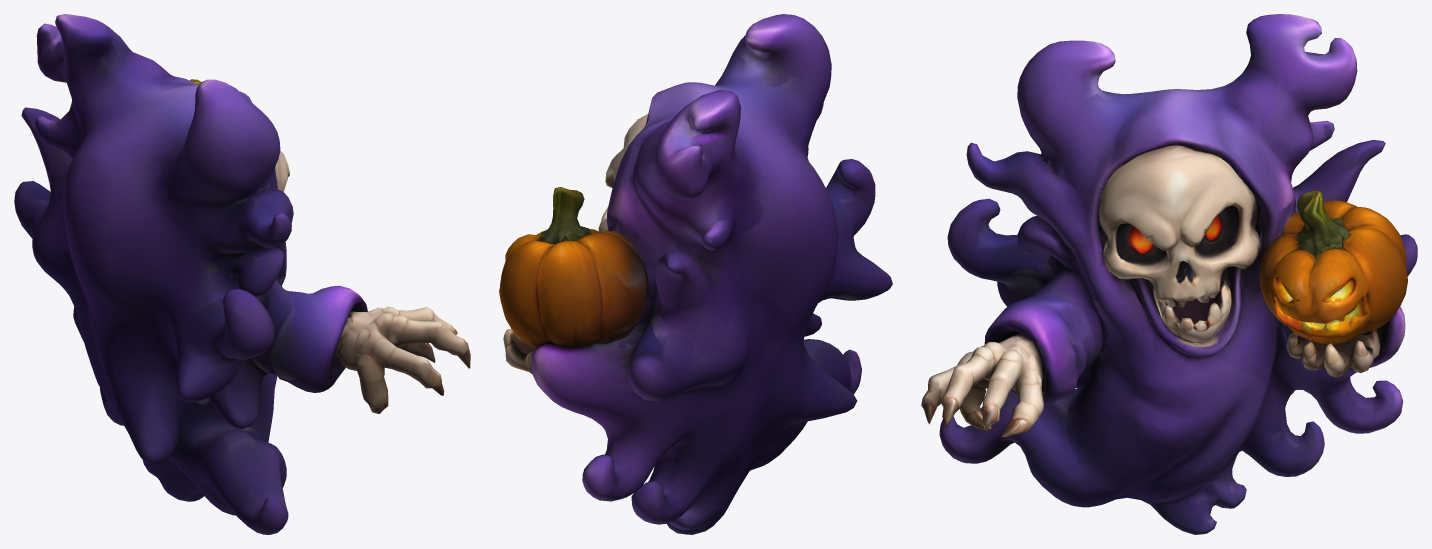
The model's file is 093-chibi-pet-tripo-v25-standard-15k.glb.
3 renders of one model, left to right at view 1: azimuth 30°, elevation 25°; view 2: azimuth 150°, elevation 25°; view 3: azimuth 270°, elevation 25°, orthographic. The views are drawn at different scales.
Visible parts, largest first — view 1: tripo_node_856713ae-0552-439f-aa1c-4e71f79b0d92; view 2: tripo_node_856713ae-0552-439f-aa1c-4e71f79b0d92; view 3: tripo_node_856713ae-0552-439f-aa1c-4e71f79b0d92.
Part boxes in pixels (x1,y1,x2,y2): tripo_node_856713ae-0552-439f-aa1c-4e71f79b0d92: (14,14,470,534); tripo_node_856713ae-0552-439f-aa1c-4e71f79b0d92: (499,14,892,534); tripo_node_856713ae-0552-439f-aa1c-4e71f79b0d92: (921,14,1417,534).
Bounding box in the file's own units: 0.6652 × 1 × 0.9384.
Materials: 1 (1 with a texture image).
